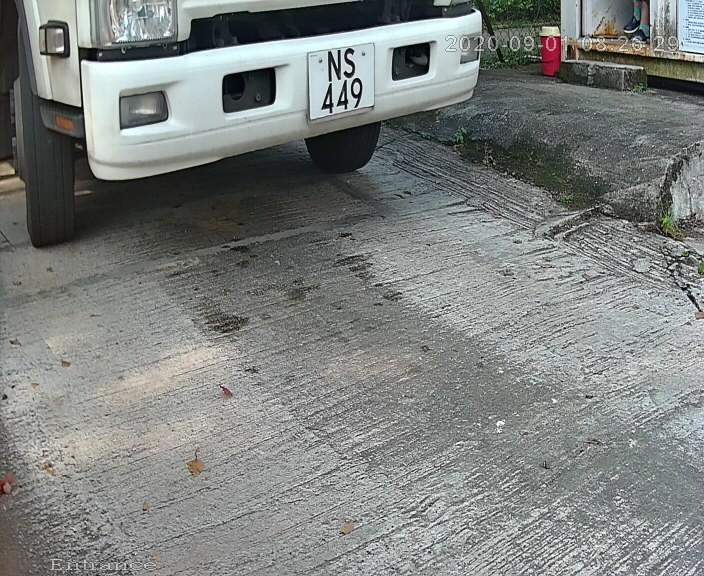Car: (51, 29, 478, 199)
License Plate: (271, 24, 393, 132)
